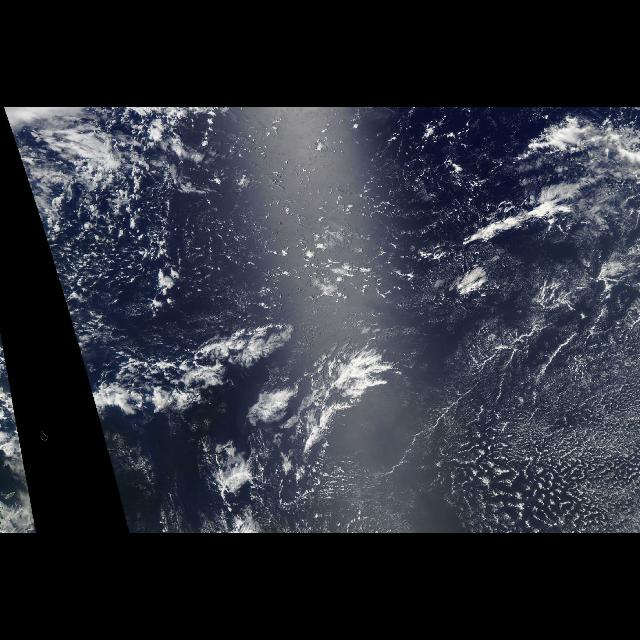Gravel: (48, 119, 215, 307)
Sugar: (384, 267, 640, 533)
